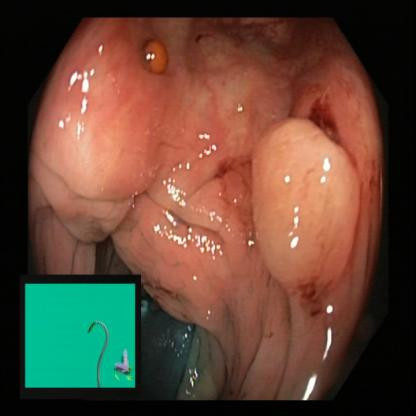Labels: (22, 276, 140, 395)
Polyps: (239, 108, 370, 297), (138, 29, 181, 87)
